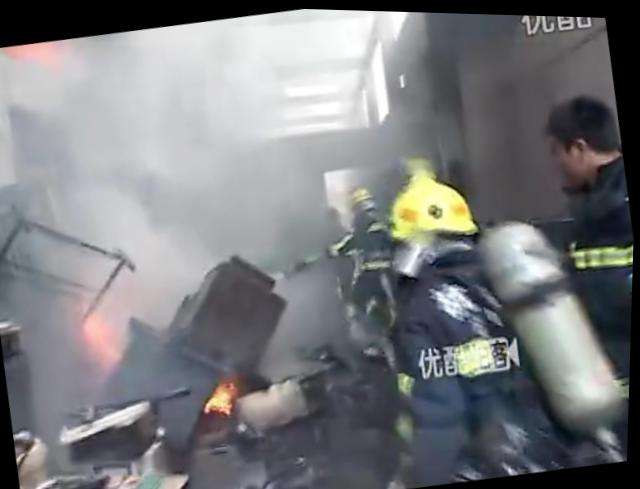fire: (202, 378, 239, 415)
